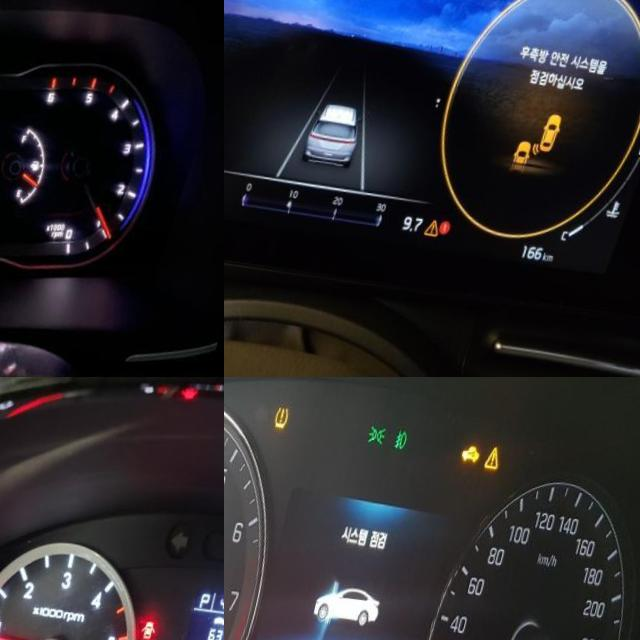Central Warning lamp: (492, 432, 509, 457), (443, 208, 461, 228)
Doors: (153, 612, 170, 631)
FrontFogLight: (400, 418, 416, 442)
SideLamp: (374, 414, 395, 436)
